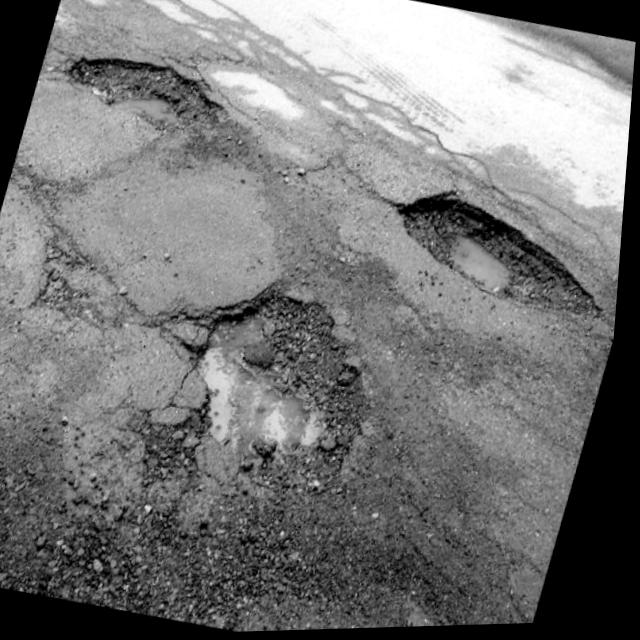pathole: (59, 59, 381, 356), (393, 194, 611, 342), (247, 248, 372, 452), (403, 197, 600, 316), (207, 319, 325, 457), (387, 304, 473, 401), (359, 423, 426, 490), (117, 99, 180, 126)
